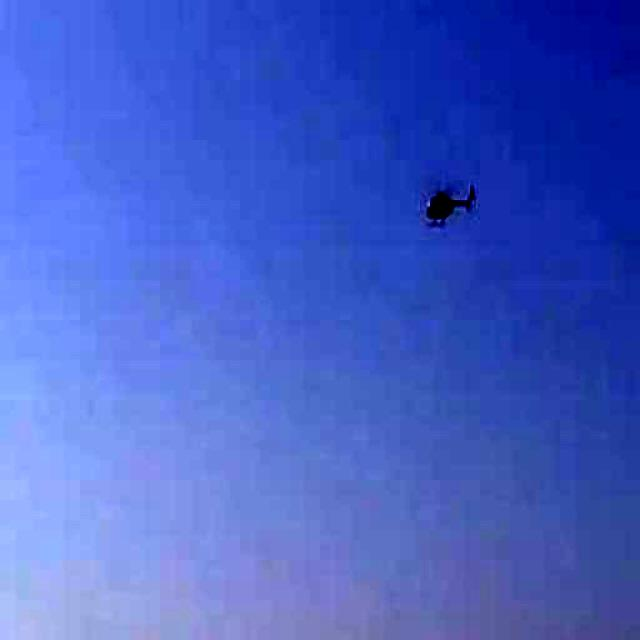drone: (394, 149, 494, 252)
